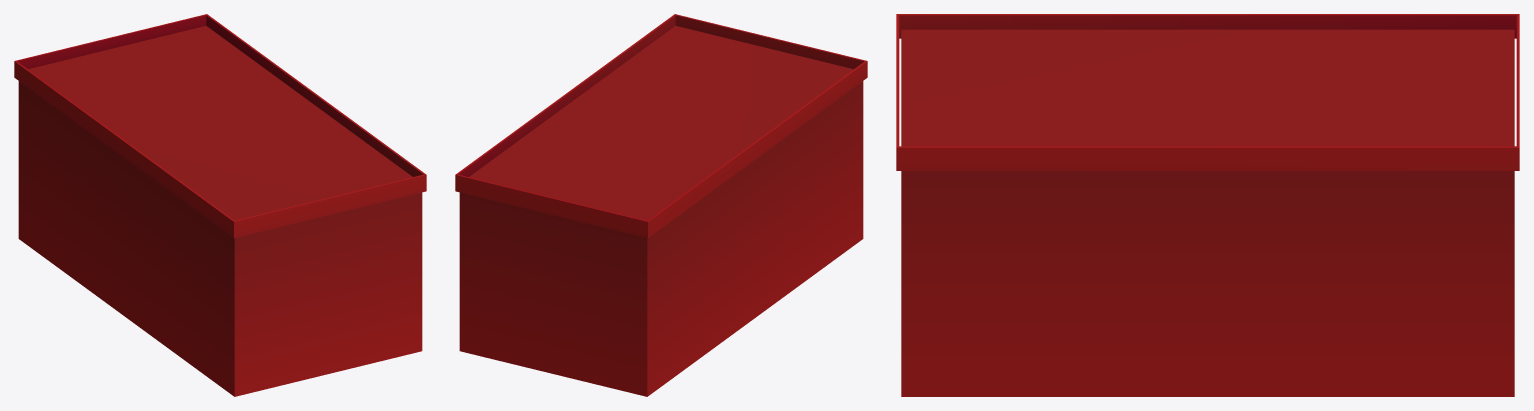
3 renders of one model, left to right at view 1: azimuth 30°, elevation 25°; view 2: azimuth 150°, elevation 25°; view 3: azimuth 270°, elevation 25°, orthographic. The views are drawn at different scales.
Visible parts, largest first — view 1: body; view 2: body; view 3: body.
Boxes of the visible parts, bbox=[...] form: body: bbox=[14, 14, 426, 396]; body: bbox=[455, 14, 867, 396]; body: bbox=[896, 14, 1519, 396].
Size of the model in its own units: 0.152 by 0.1334 by 0.3.
